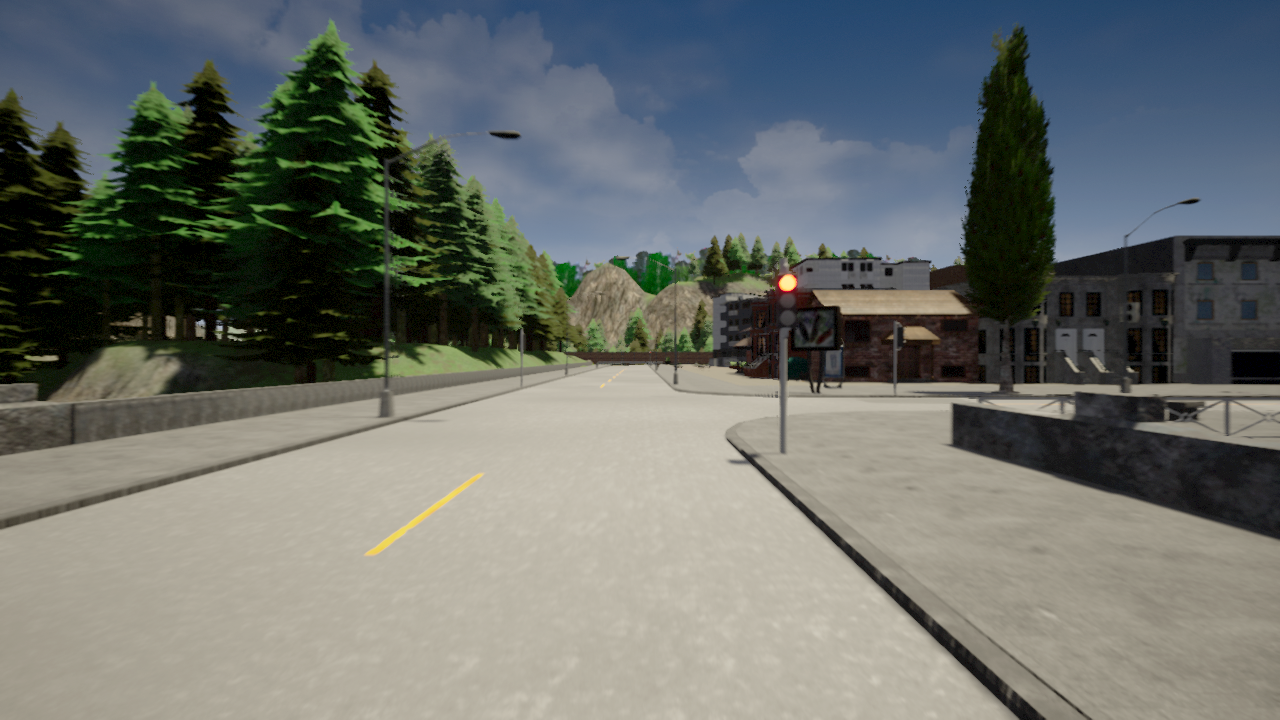red: (773, 270, 798, 329)
